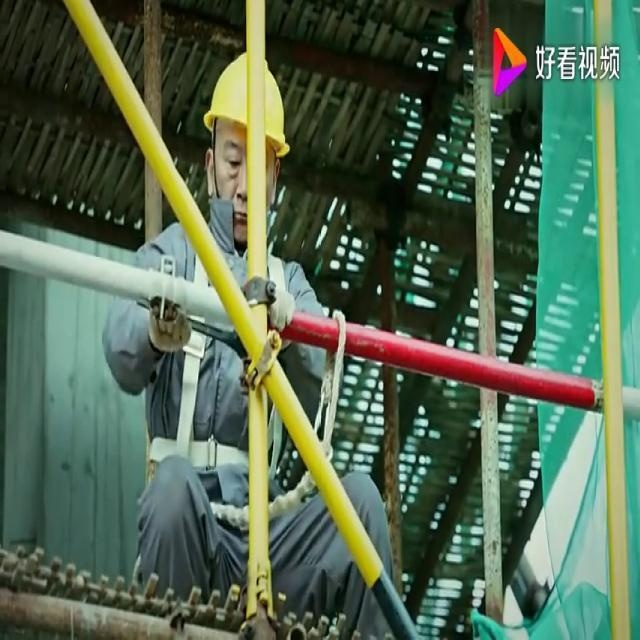Arnes_seguridad: (143, 221, 302, 490)
